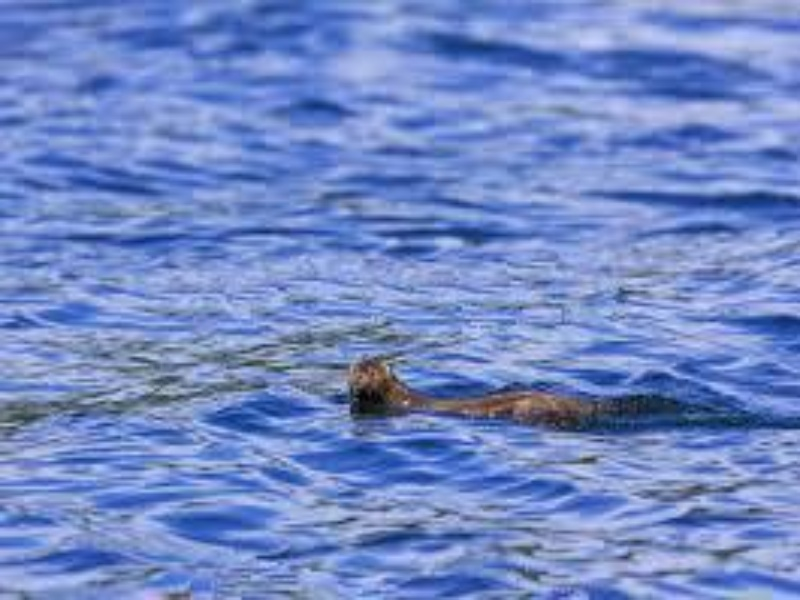minkish: (347, 356, 686, 434)
